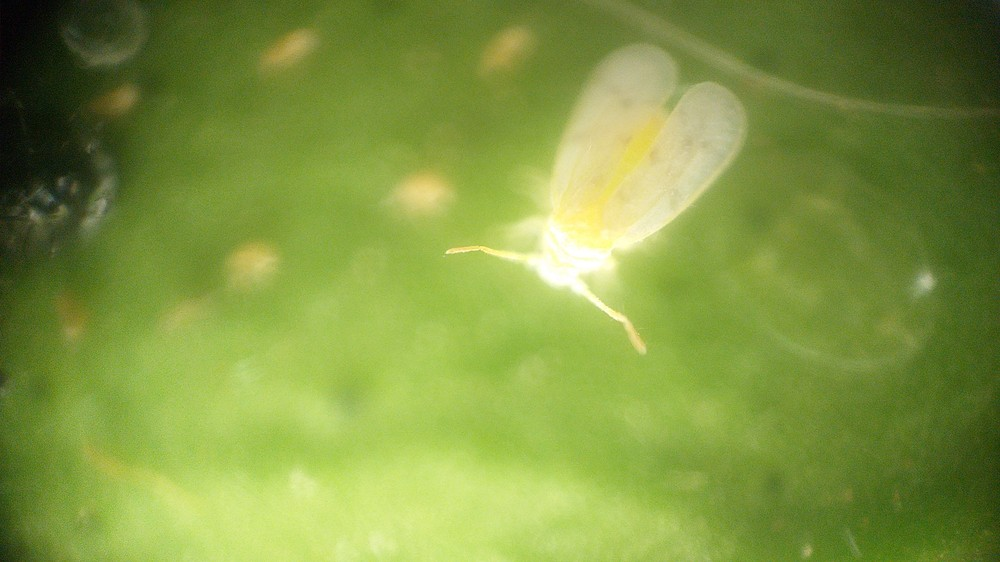Mosca Blanca: (422, 38, 763, 386)
